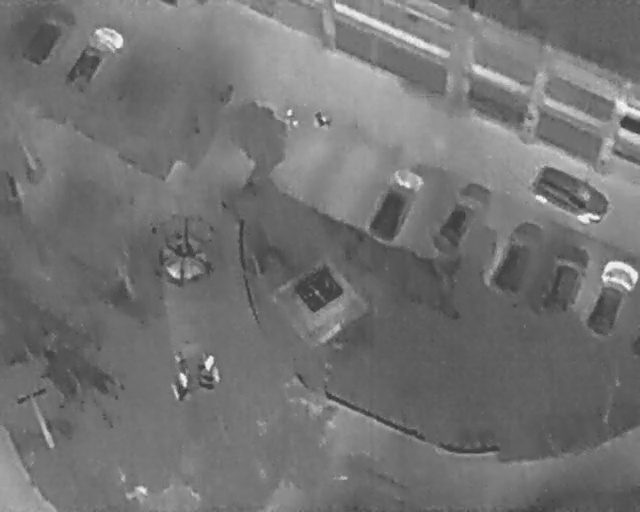Car: (523, 157, 616, 233), (481, 212, 553, 303), (360, 160, 430, 247), (58, 16, 129, 101), (431, 174, 499, 256), (536, 238, 593, 319), (582, 258, 638, 339), (17, 0, 78, 73)
Person: (282, 108, 299, 129), (314, 110, 331, 129)
